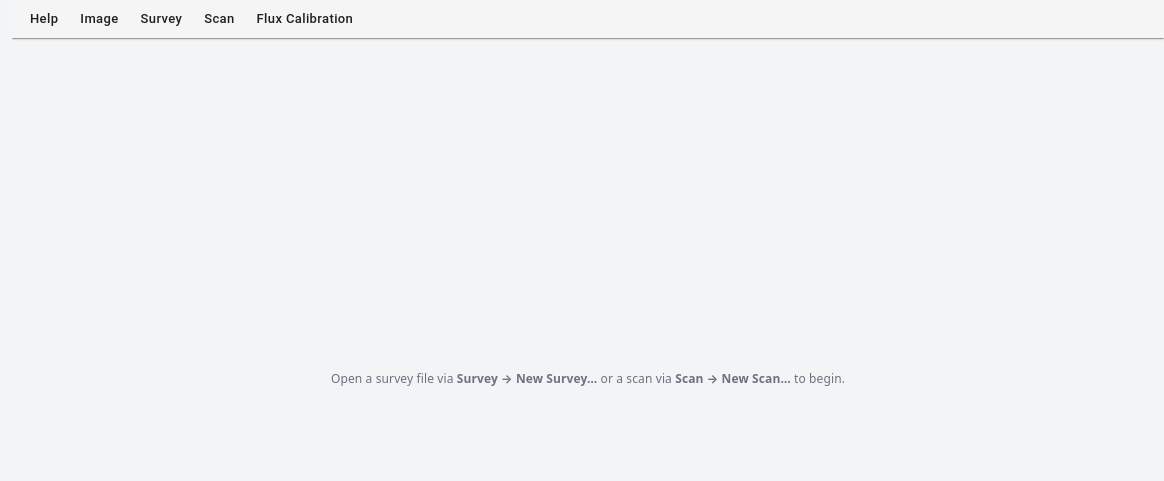
Test: image submenu items are disabled before an image exists
Step 1. Click the button "Image" → (100, 19), box x1=70 y1=6 x2=129 y2=32
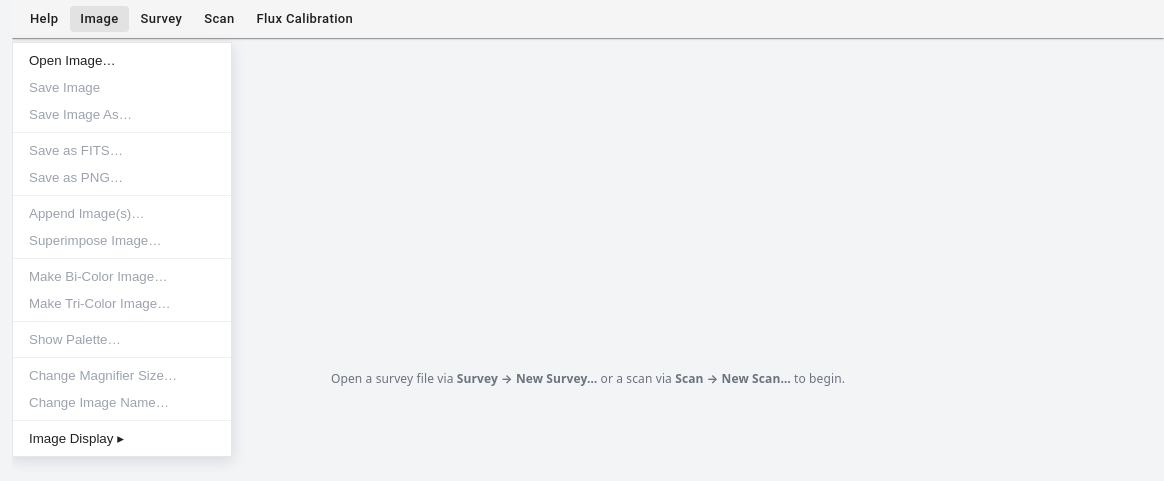
Check: the menu item "Save Image As…" is disabled, box x1=13 y1=101 x2=231 y2=128
Check: the menu item "Save as PNG…" is disabled, box x1=13 y1=164 x2=231 y2=191
Check: the menu item "Show Palette…" is disabled, box x1=13 y1=326 x2=231 y2=353
